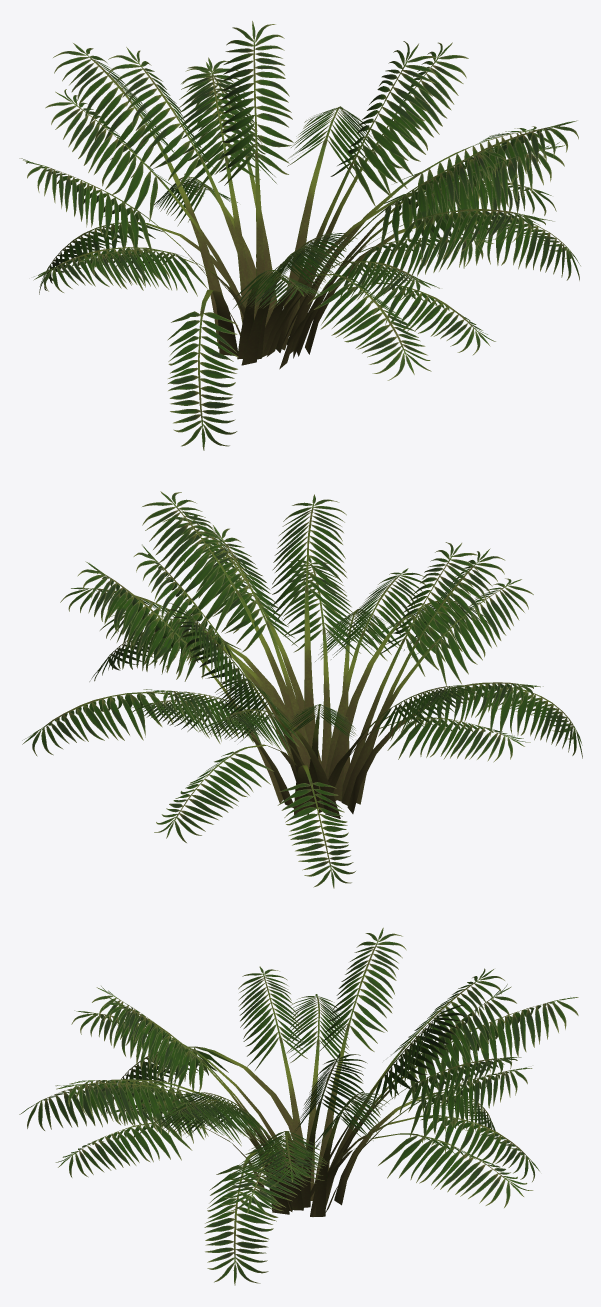
Rendered from SM_VegetationB.fbx.
The picture shows the model from 3 angles, top to bottom: view 1: azimuth 30°, elevation 25°; view 2: azimuth 150°, elevation 25°; view 3: azimuth 270°, elevation 25°; orthographic projection. The views are drawn at different scales.
Parts seen in each view (by area): view 1: SM_VegetationB_LOD0; view 2: SM_VegetationB_LOD0; view 3: SM_VegetationB_LOD0.
Part boxes in pixels (x1=…): SM_VegetationB_LOD0: x1=19, y1=21, x2=580, y2=450; SM_VegetationB_LOD0: x1=22, y1=491, x2=582, y2=888; SM_VegetationB_LOD0: x1=19, y1=927, x2=578, y2=1285.
Size of the model in its own units: 182 by 194 by 87.65.
Materials: 1 (1 with a texture image).
